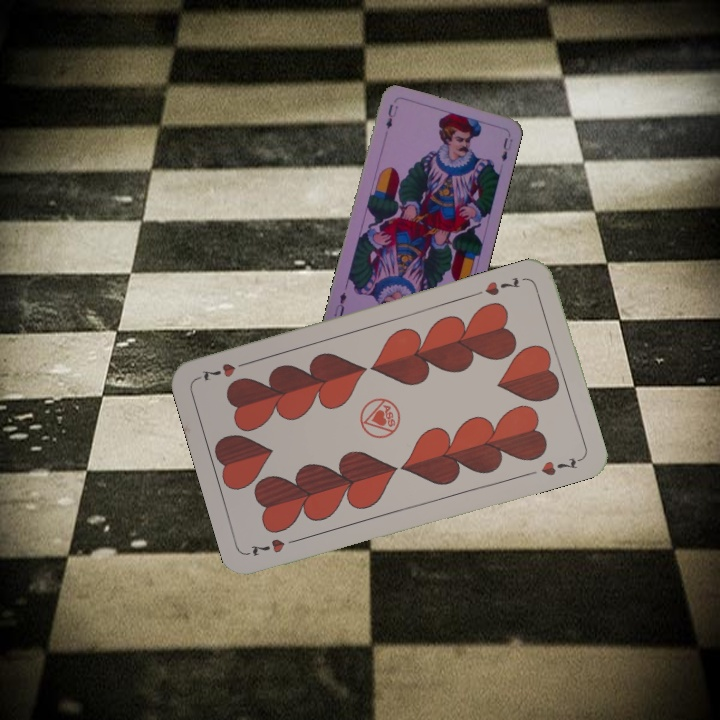EU: (382, 100, 400, 131)
H7: (245, 533, 304, 559), (481, 273, 523, 298)
